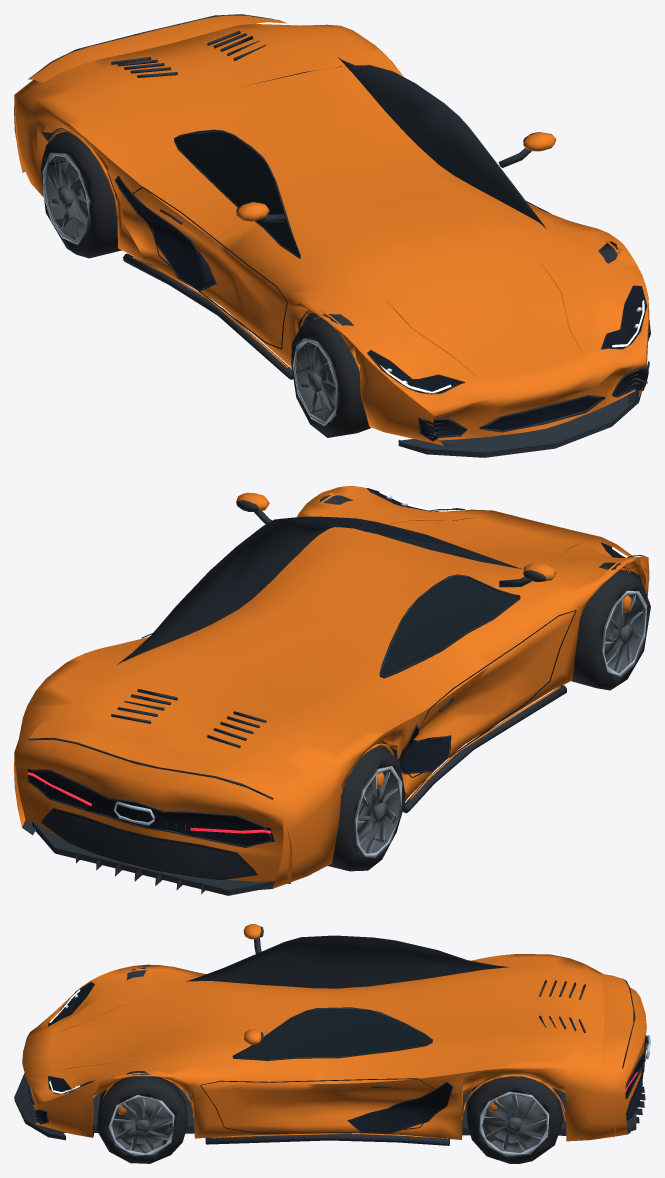
File: McLaren_LOD2.glb
The picture shows the model from 3 angles, top to bottom: view 1: azimuth 30°, elevation 25°; view 2: azimuth 150°, elevation 25°; view 3: azimuth 270°, elevation 25°; orthographic projection. The views are drawn at different scales.
Parts seen in each view (by area): view 1: McLaren_Body, Wheel_Rear_L, Wheel_Front_L; view 2: McLaren_Body, Wheel_Front_L, Wheel_Rear_L; view 3: McLaren_Body, Wheel_Rear_R, Wheel_Front_R.
Boxes of the visible parts, x1,y1,x2,y2 form: McLaren_Body: [14, 14, 649, 457]; Wheel_Rear_L: [40, 131, 137, 258]; Wheel_Front_L: [291, 318, 370, 437]; McLaren_Body: [14, 486, 649, 895]; Wheel_Front_L: [572, 569, 650, 690]; Wheel_Rear_L: [328, 746, 405, 871]; McLaren_Body: [14, 924, 650, 1145]; Wheel_Rear_R: [466, 1075, 563, 1163]; Wheel_Front_R: [97, 1076, 188, 1163].
Bounding box in the file's own units: 2 × 1.2 × 4.57.
